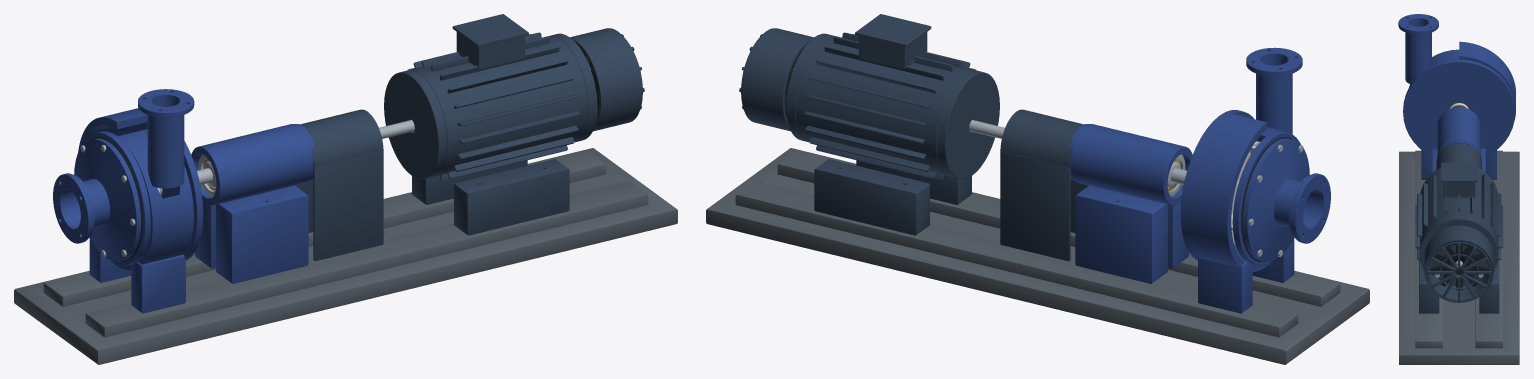
File: pump.glb
3 views of the same model, side by side, from view 1: azimuth 30°, elevation 25°; view 2: azimuth 150°, elevation 25°; view 3: azimuth 270°, elevation 25° (orthographic). The views are drawn at different scales.
Visible parts, largest first — view 1: Machined mounting base, Motor finned housing, Pump bearing frame, Casing, Coupling guard, Suction cover and inlet flange, Motor drive-end cover, Ventilated fan cover, Tangential discharge neck and flange, Motor terminal enclosure, Motor non-drive-end cover; view 2: Machined mounting base, Motor finned housing, Pump bearing frame, Casing, Coupling guard, Suction cover and inlet flange, Motor drive-end cover, Ventilated fan cover, Tangential discharge neck and flange, Motor terminal enclosure, Motor non-drive-end cover; view 3: Machined mounting base, Casing, Motor finned housing, Ventilated fan cover, Tangential discharge neck and flange, Pump bearing frame, Motor non-drive-end cover, Motor terminal enclosure, Motor cooling fan, Coupling guard, Motor drive-end cover.
Boxes of the visible parts, box(x1,y1,x2,y2) form: Machined mounting base: box(14, 148, 677, 364); Motor finned housing: box(407, 32, 588, 235); Pump bearing frame: box(191, 124, 313, 283); Casing: box(78, 108, 203, 313); Coupling guard: box(295, 109, 383, 261); Suction cover and inlet flange: box(53, 138, 141, 261); Motor drive-end cover: box(384, 70, 447, 179); Ventilated fan cover: box(570, 28, 644, 131); Tangential discharge neck and flange: box(138, 89, 194, 188); Motor terminal enclosure: box(452, 14, 528, 69); Motor non-drive-end cover: box(550, 33, 597, 142); Machined mounting base: box(706, 148, 1369, 364); Motor finned housing: box(795, 32, 976, 235); Pump bearing frame: box(1070, 124, 1192, 283); Casing: box(1180, 110, 1300, 313); Coupling guard: box(1000, 109, 1088, 261); Suction cover and inlet flange: box(1242, 138, 1330, 261); Motor drive-end cover: box(936, 70, 999, 179); Ventilated fan cover: box(739, 28, 813, 131); Tangential discharge neck and flange: box(1246, 47, 1302, 134); Motor terminal enclosure: box(855, 14, 931, 69); Motor non-drive-end cover: box(786, 33, 833, 142); Machined mounting base: box(1399, 150, 1519, 364); Casing: box(1403, 41, 1515, 179); Motor finned housing: box(1415, 171, 1503, 313); Ventilated fan cover: box(1424, 225, 1493, 302); Tangential discharge neck and flange: box(1398, 14, 1438, 84); Pump bearing frame: box(1432, 107, 1485, 172); Motor non-drive-end cover: box(1420, 216, 1498, 285); Motor terminal enclosure: box(1441, 162, 1477, 198); Motor cooling fan: box(1430, 245, 1488, 290); Coupling guard: box(1436, 143, 1481, 169); Motor drive-end cover: box(1420, 167, 1497, 193).
Bounding box in the file's own units: 3.2 × 1.24 × 0.807.
